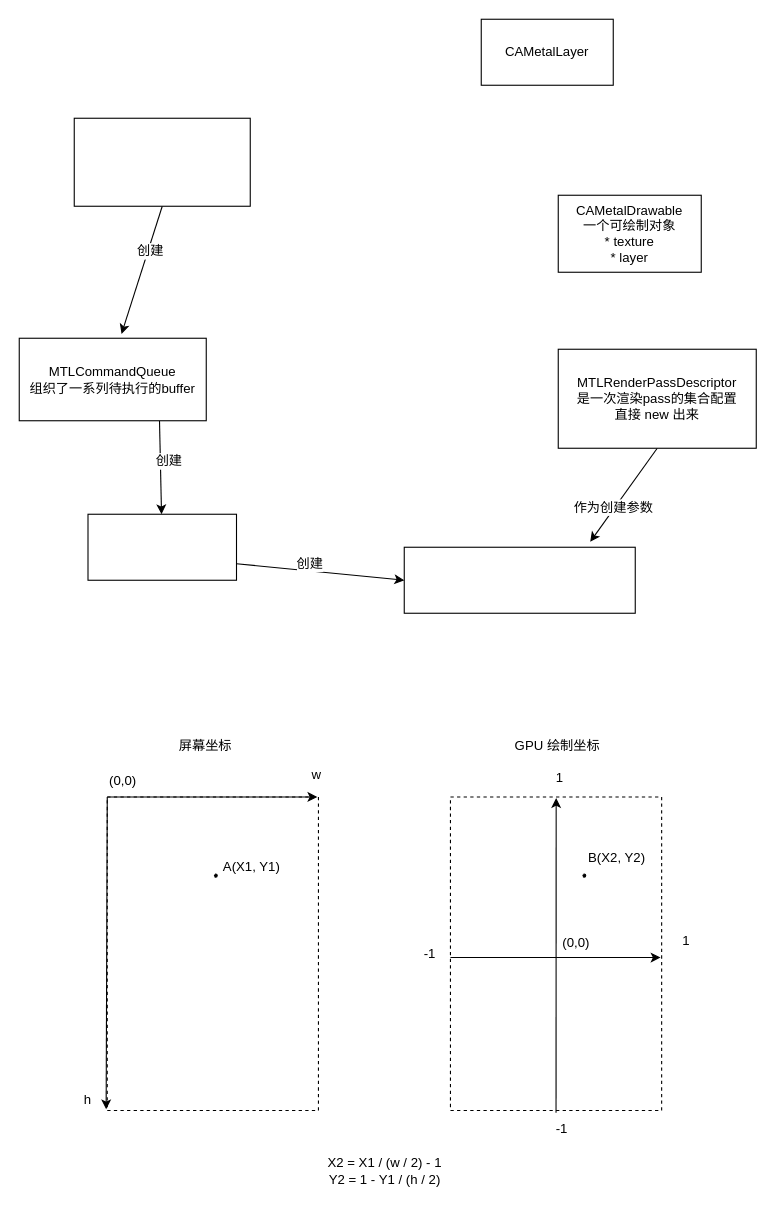
This 776x1208 diagram has some shape labels left out. The shapes that lost their labels are listed below. From the top down, each one's centre as x and y in pixels, then its label:
point 161,161: MTLDeivce 表示一个GPU设备 * makeCommandQueue * makeTexture * makeBuffer
point 162,546: MTLCommandBuffer
point 519,579: MTLRenderCommandEncoder
